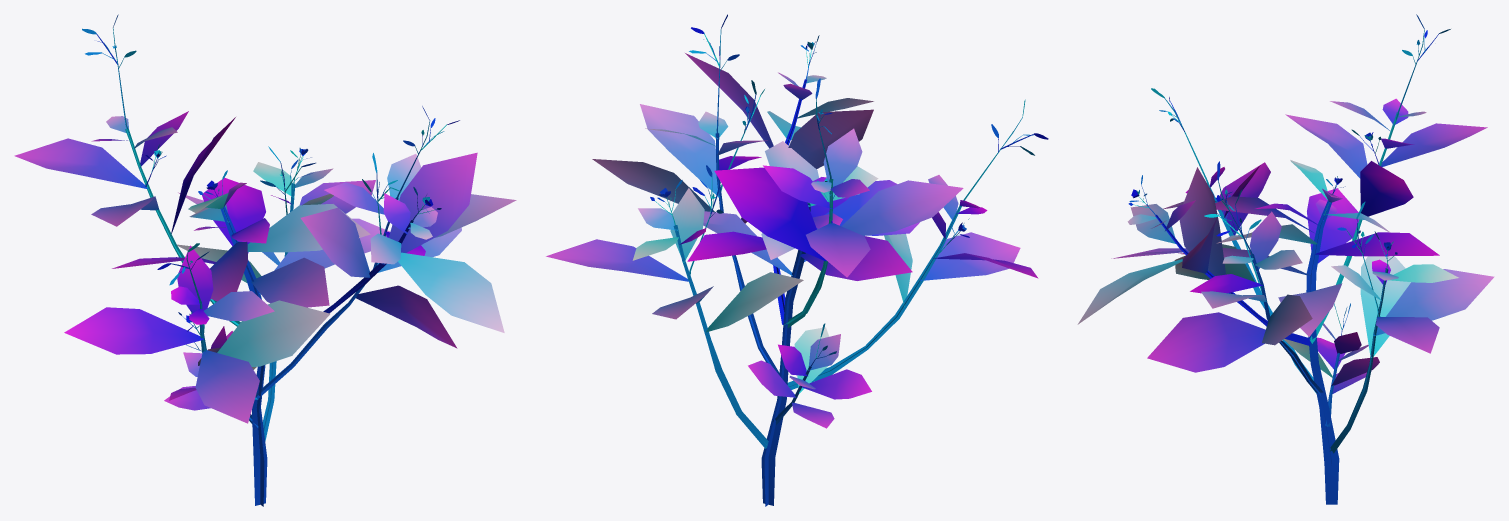
The model's file is xefmcgrqx_VarD_LOD0.fbx.
3 renders of one model, left to right at view 1: azimuth 30°, elevation 25°; view 2: azimuth 150°, elevation 25°; view 3: azimuth 270°, elevation 25°, orthographic. The views are drawn at different scales.
Visible parts, largest first — view 1: _fxzt_VarD_LOD3; view 2: _fxzt_VarD_LOD3; view 3: _fxzt_VarD_LOD3.
Part boxes in pixels (x1,y1,x2,y2): _fxzt_VarD_LOD3: [14, 14, 516, 506]; _fxzt_VarD_LOD3: [546, 14, 1048, 506]; _fxzt_VarD_LOD3: [1077, 14, 1494, 504].
Size of the model in its own units: 58.08 by 62.83 by 53.2.
